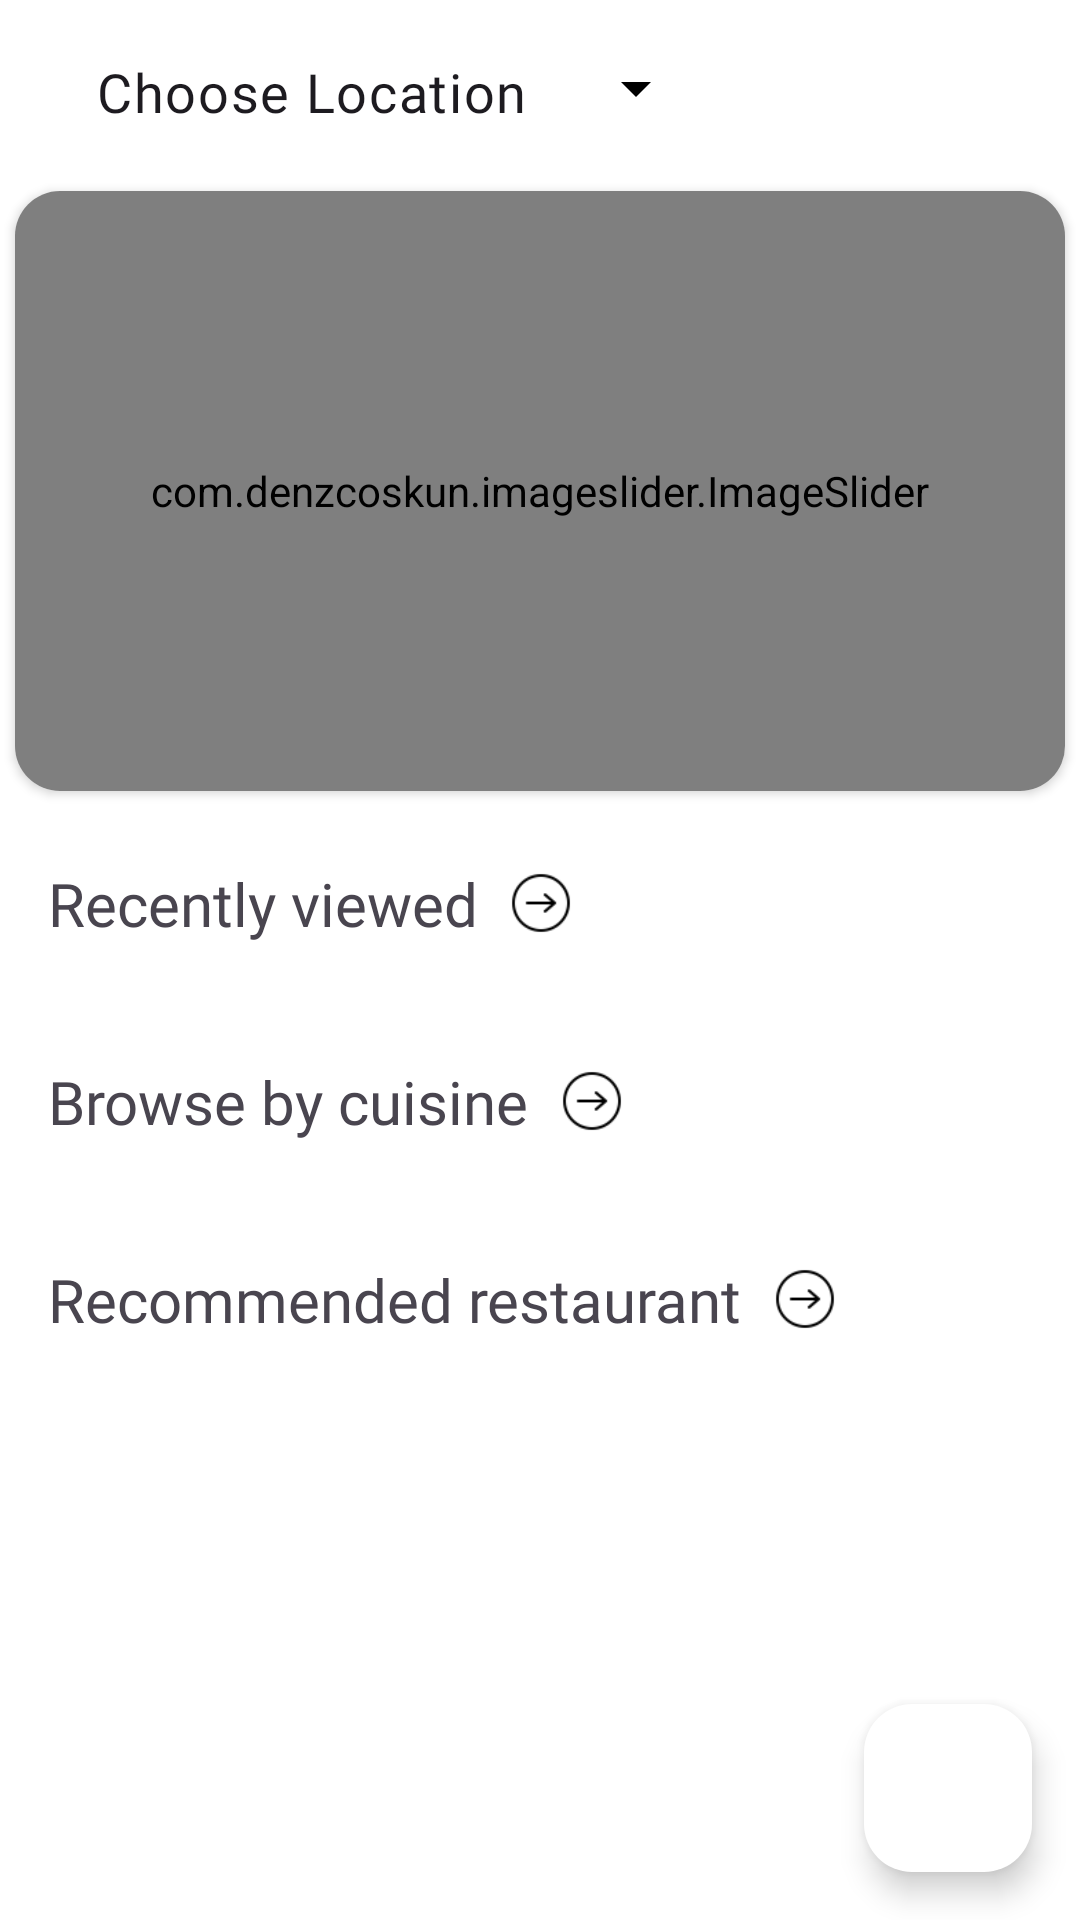

Named icons in this screenshot (1080w x 1920h) and their bounding boxes, (left=x1, top=y1, right=x2, bottom=y2):
next: (left=512, top=874, right=570, bottom=932), (left=563, top=1072, right=621, bottom=1130), (left=776, top=1270, right=834, bottom=1328)
